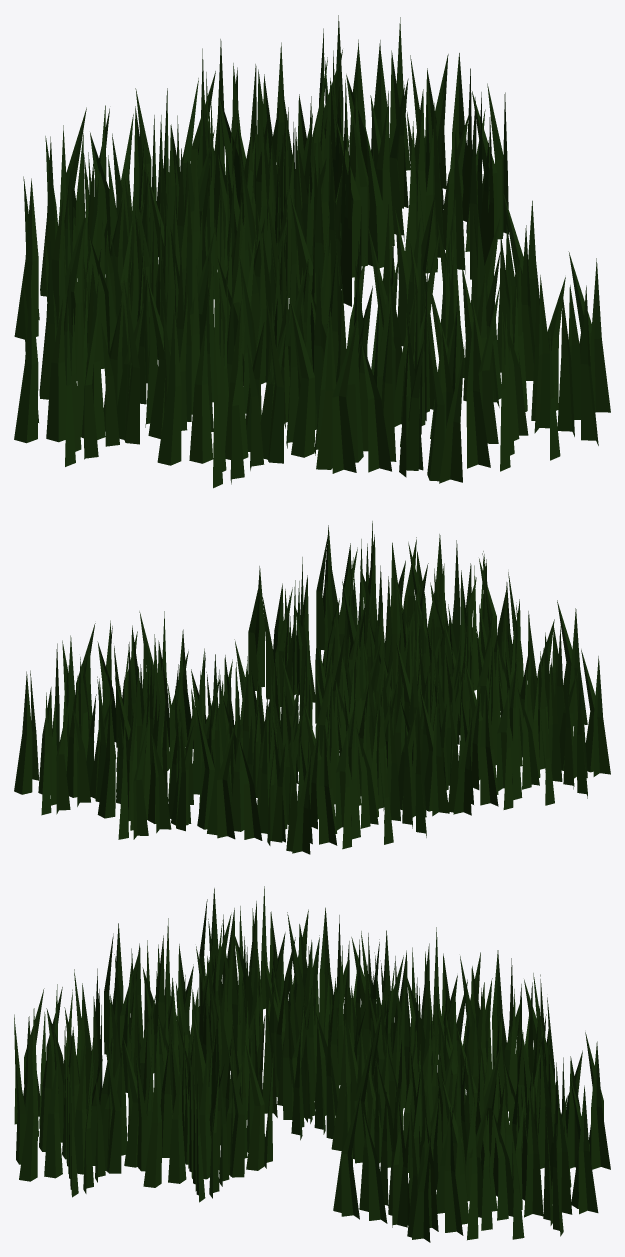
Rendered from grass4.fbx.
3 views of the same model, one above another, from view 1: azimuth 30°, elevation 25°; view 2: azimuth 150°, elevation 25°; view 3: azimuth 270°, elevation 25° (orthographic). The views are drawn at different scales.
Parts seen in each view (by area): view 1: Plane.1294; view 2: Plane.1294; view 3: Plane.1294.
Boxes of the visible parts, <box> form: Plane.1294: <box>14,15,610,488</box>; Plane.1294: <box>14,521,610,854</box>; Plane.1294: <box>14,886,610,1242</box>.
Size of the model in its own units: 119 by 30.52 by 127.
